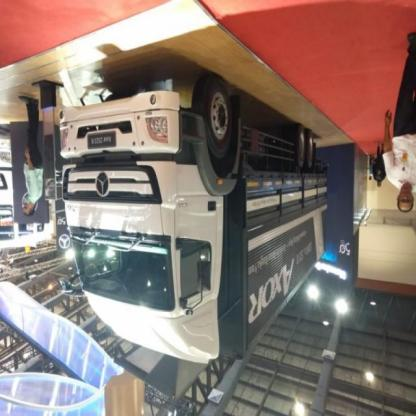truck: (60, 89, 331, 378)
